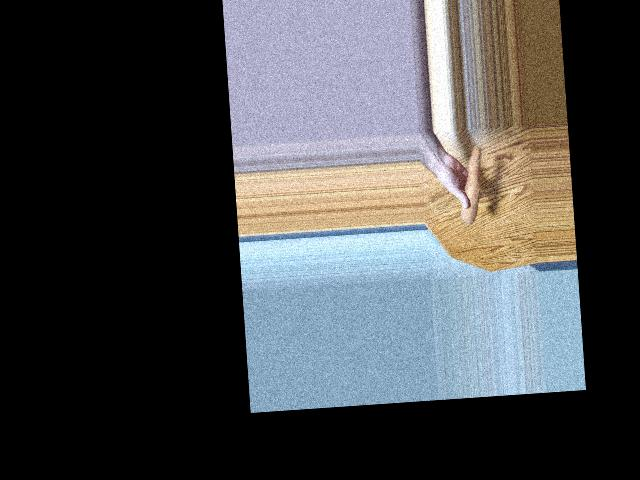sweet_potato: (462, 146, 482, 223)
